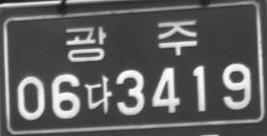0: (16, 75, 46, 120)
1: (185, 64, 213, 112)
3: (115, 69, 145, 117)
4: (151, 67, 180, 113)
6: (50, 73, 82, 119)
9: (221, 63, 252, 110)
광주_D: (65, 19, 197, 62)
다: (84, 74, 112, 113)
